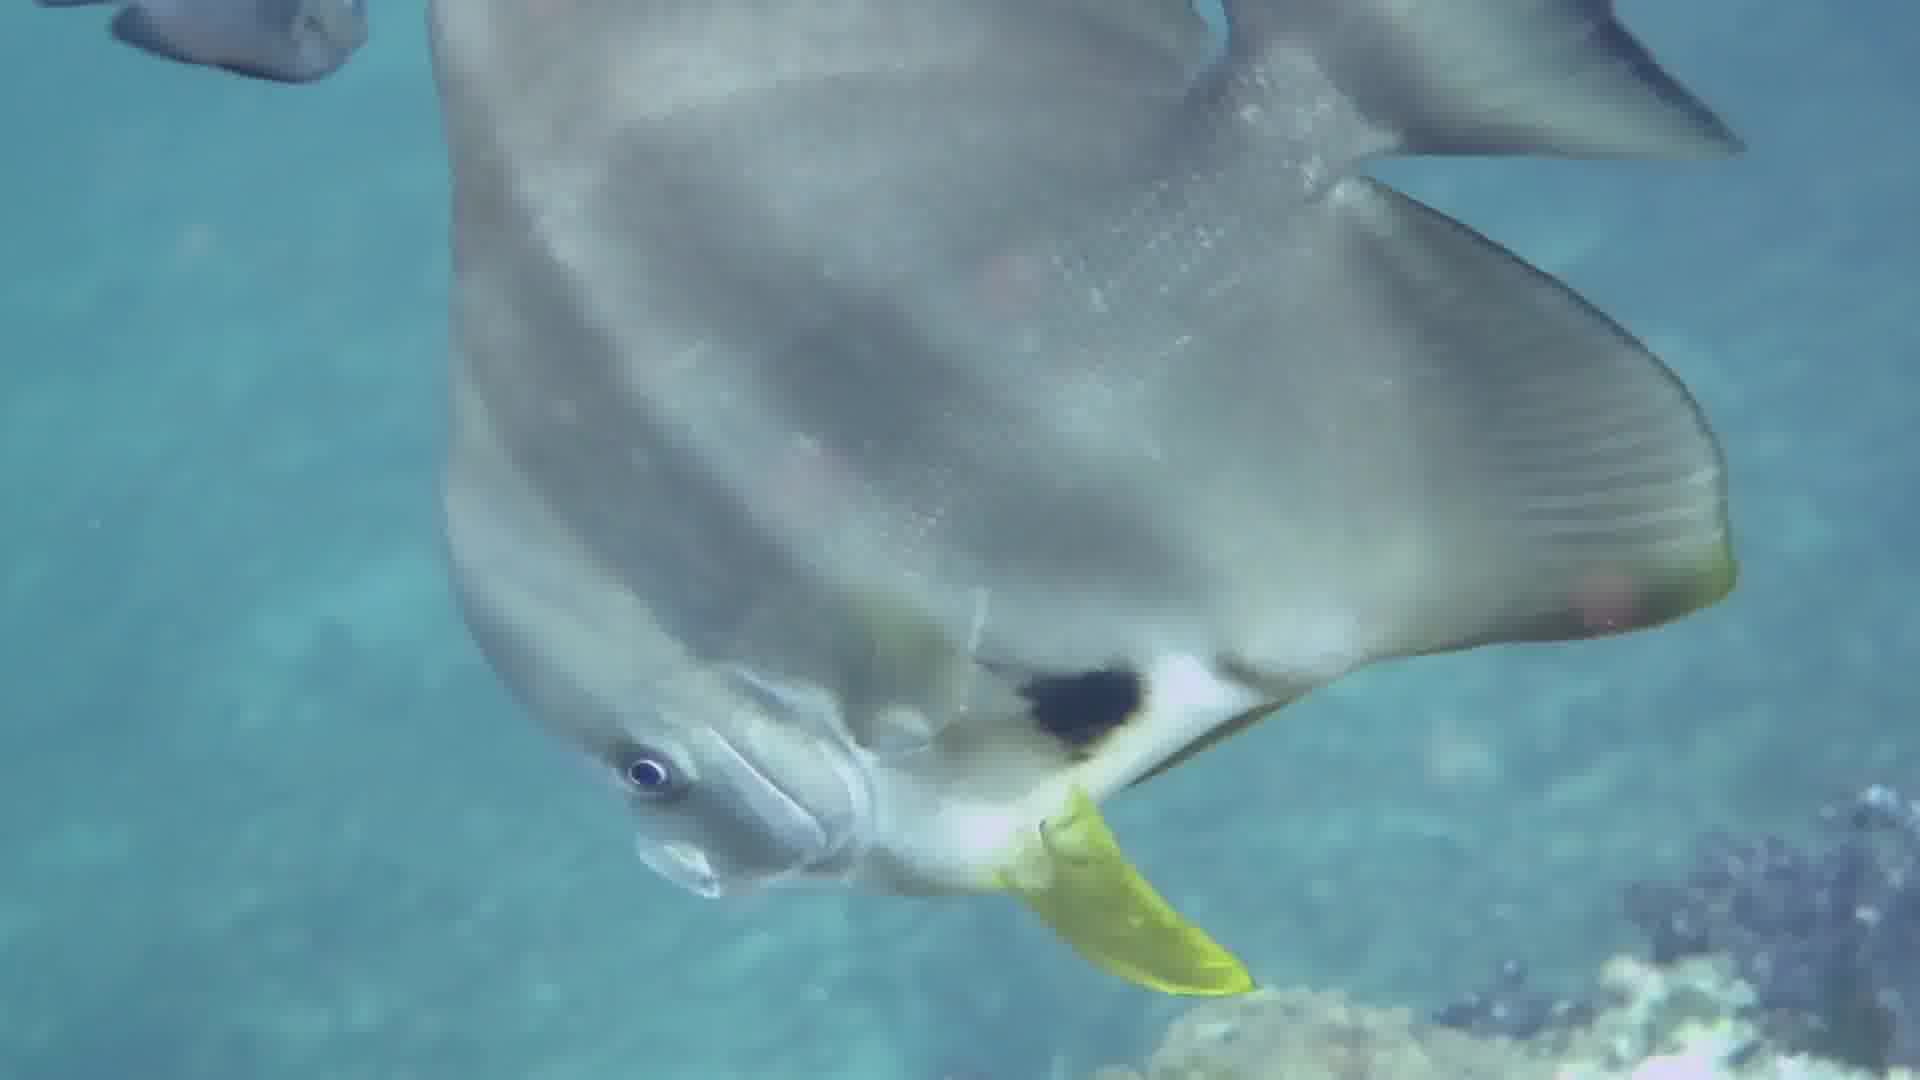Platax teira: (386, 1, 1849, 1030)
